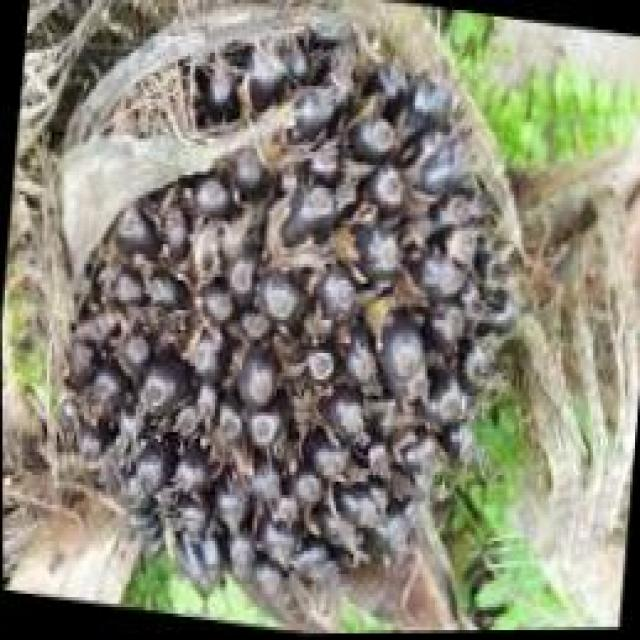Unripe: (37, 0, 546, 640)
